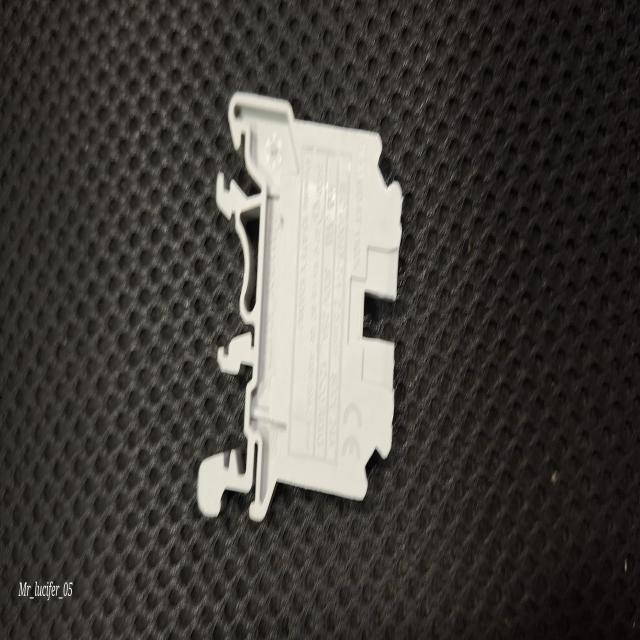Inverted: (196, 78, 407, 527)
